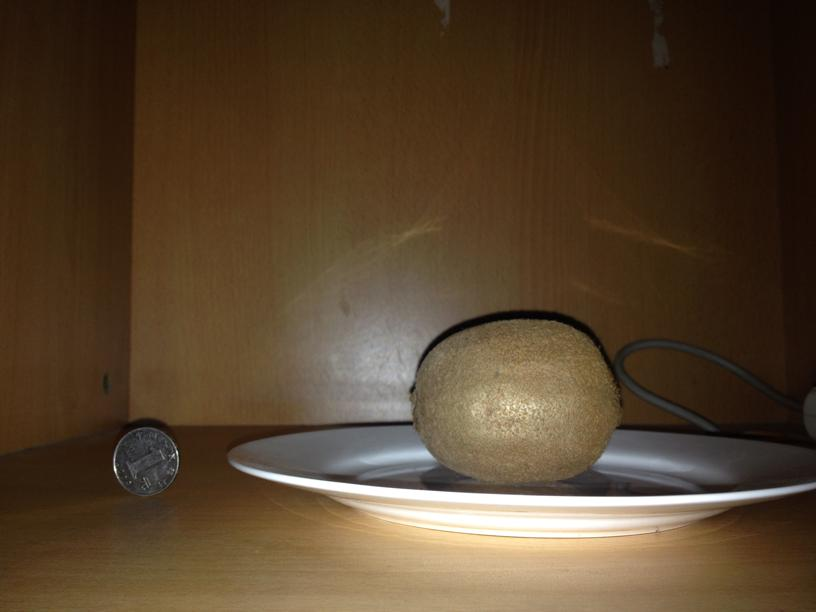coin: (108, 425, 179, 497)
qiwi: (414, 320, 617, 481)
